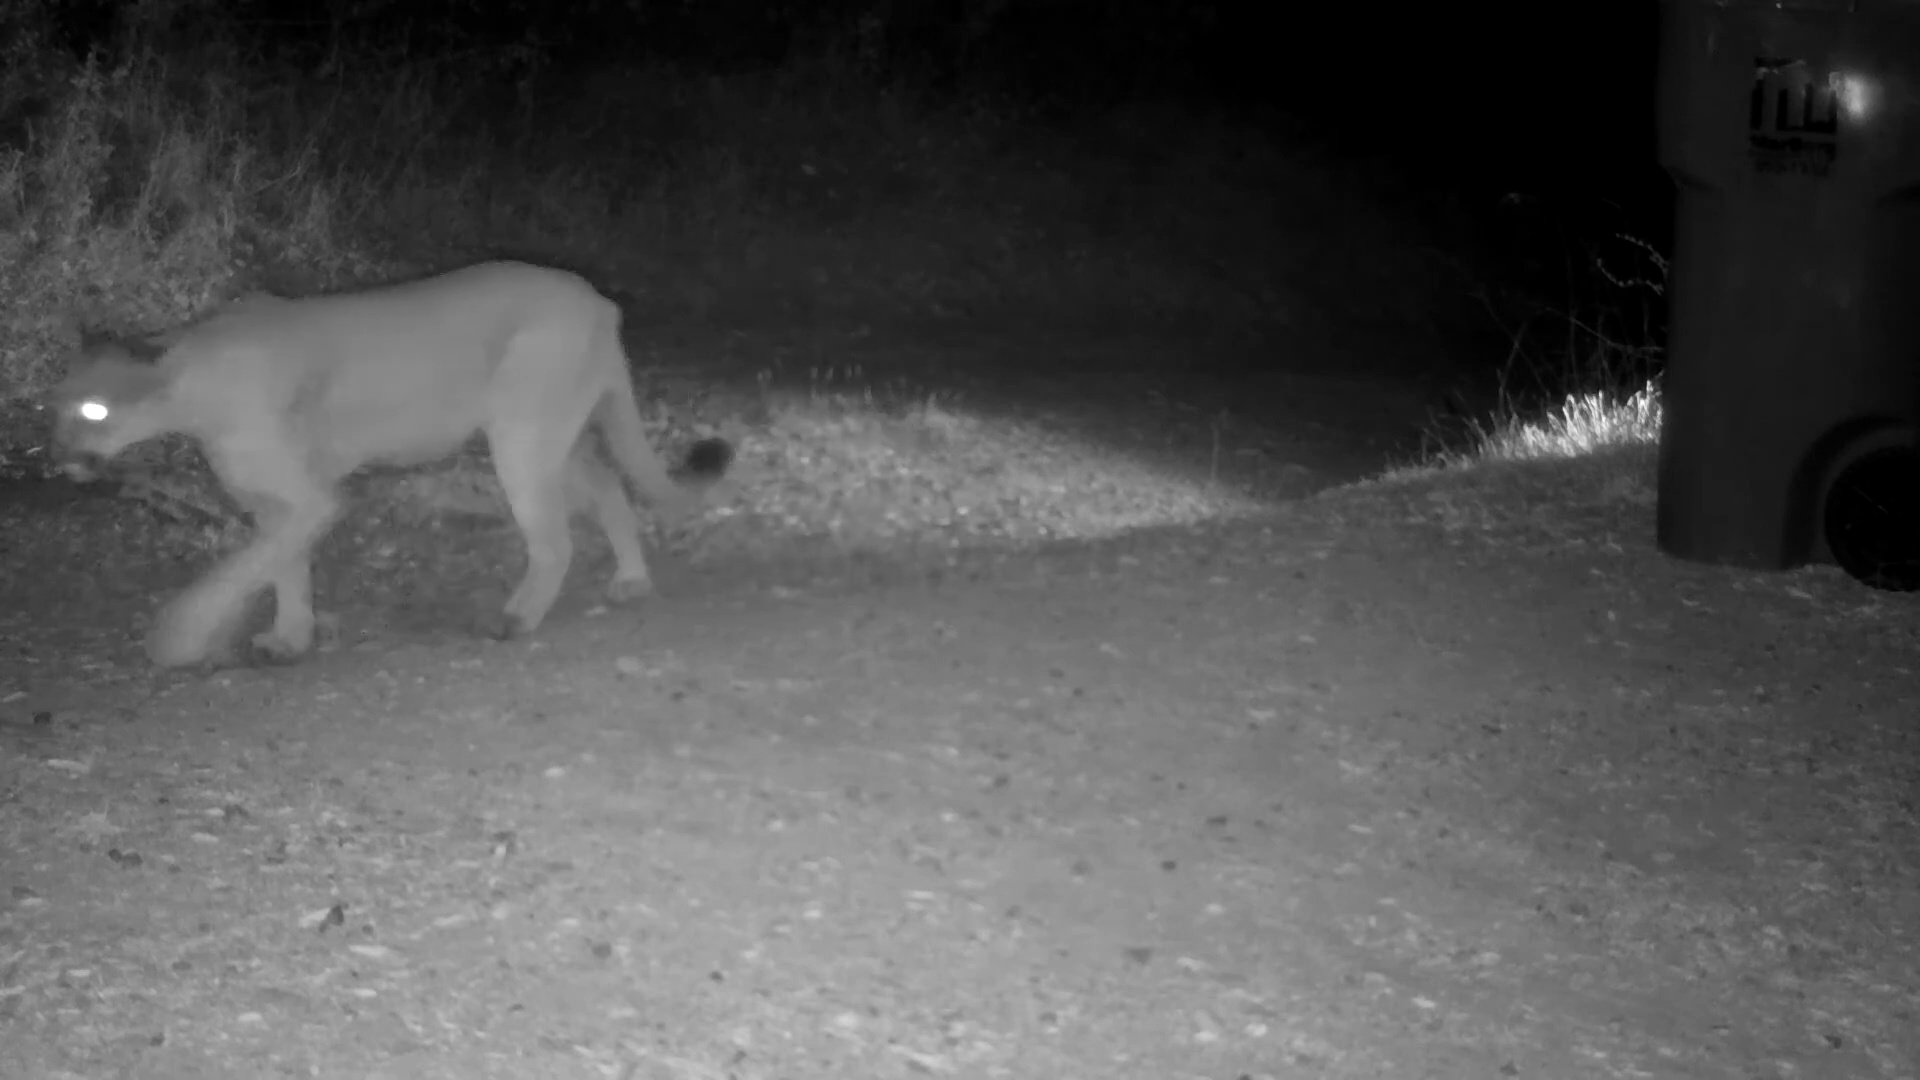Lion: (44, 255, 740, 671)
